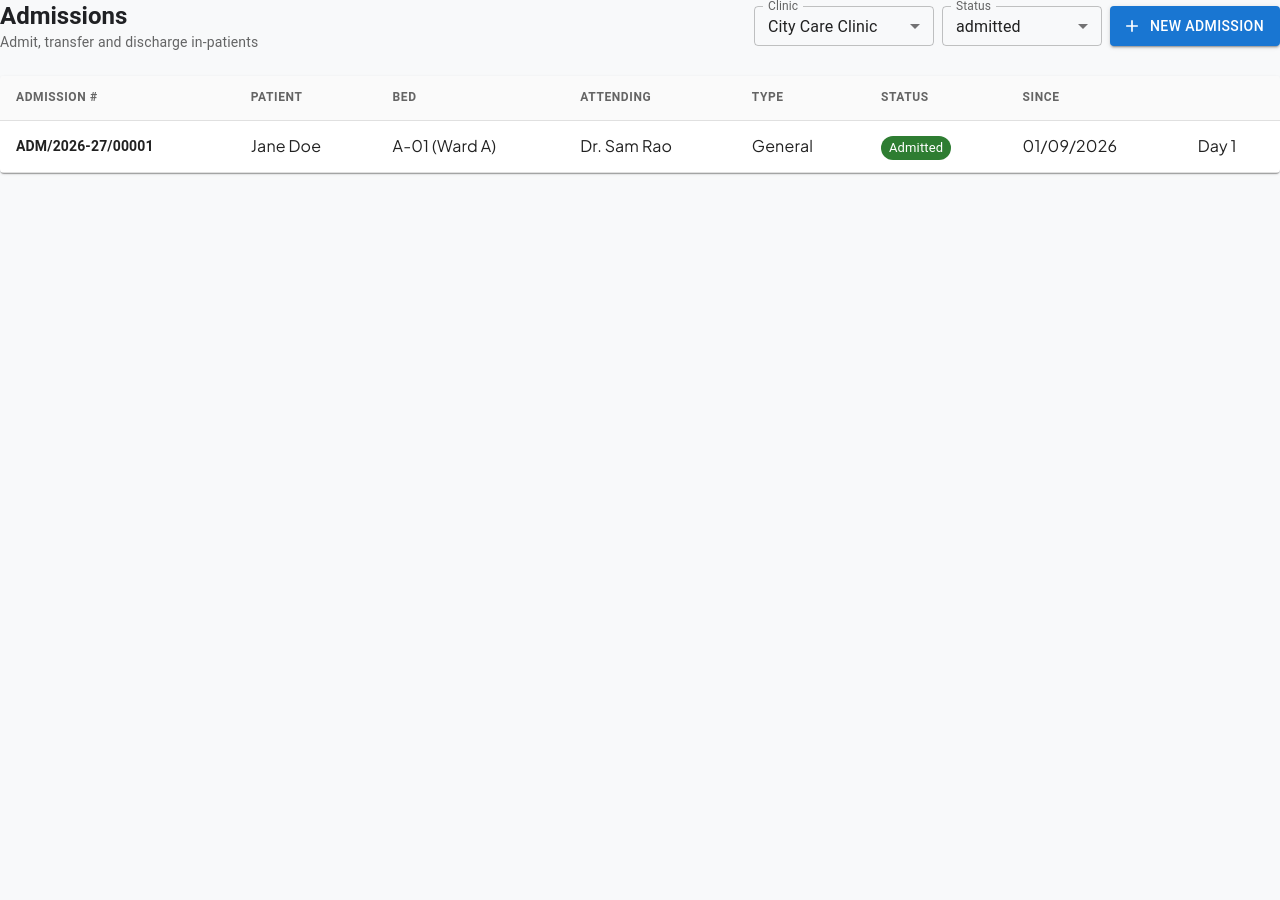
Scenario: ipd/Admissions › submits a discharge and refreshes the list
The width and height of the screenshot is (1280, 900).
Click the text "ADM/2026-27/00001".
click(85, 146)  # box 16,138 -> 154,154
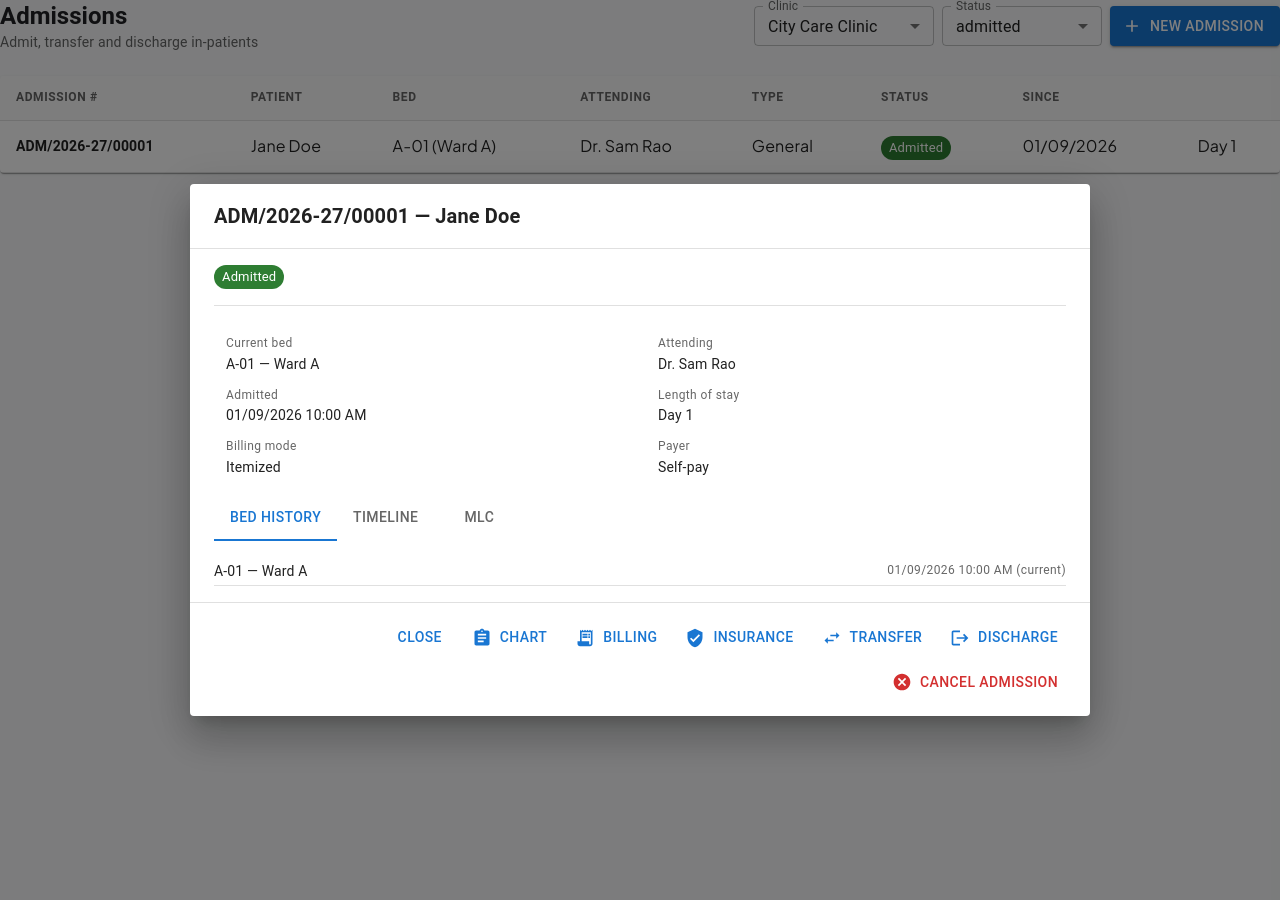
Click the button "Discharge".
click(1006, 638)  # box 946,619 -> 1066,656
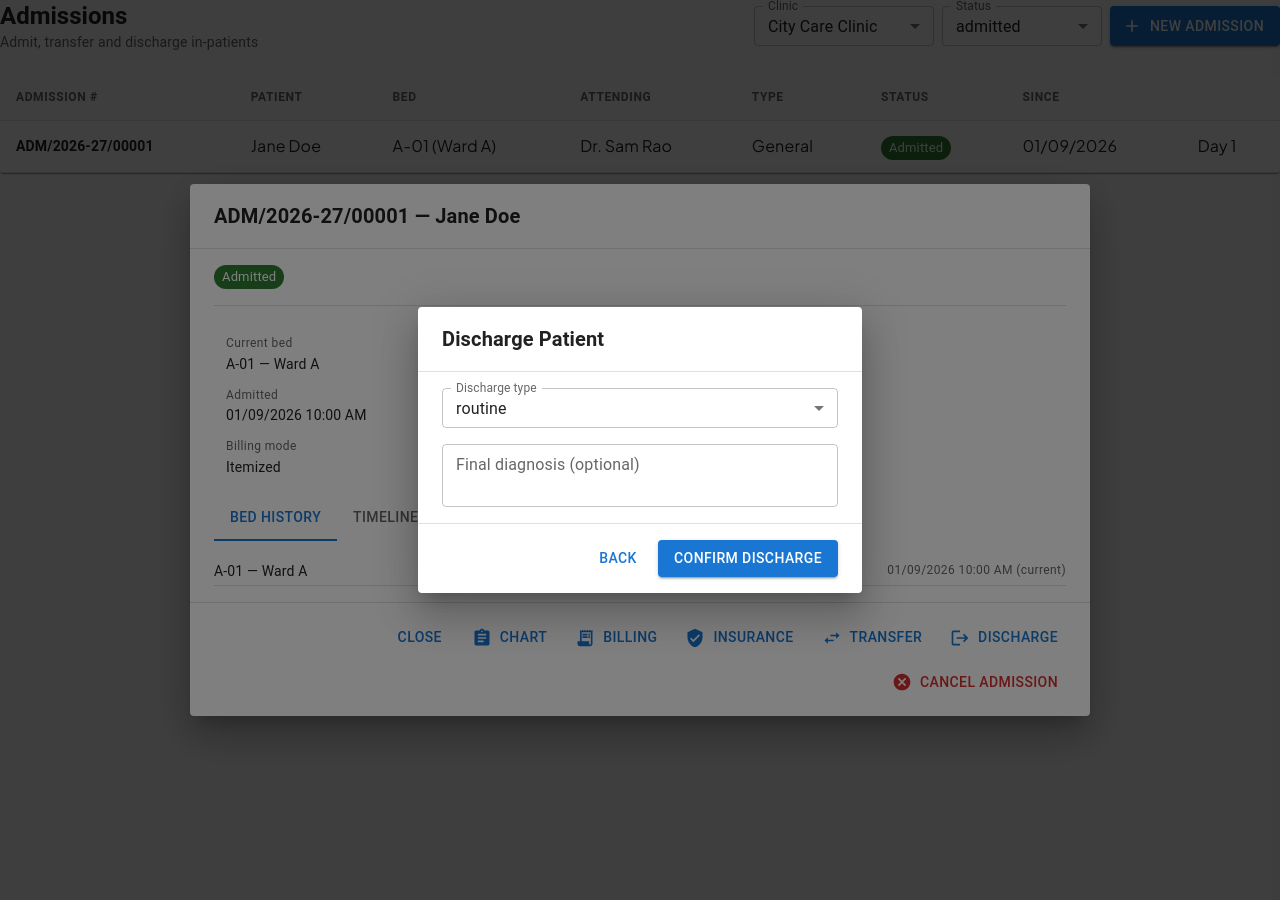
Click the button "Confirm Discharge".
click(748, 559)  # box 658,540 -> 838,577
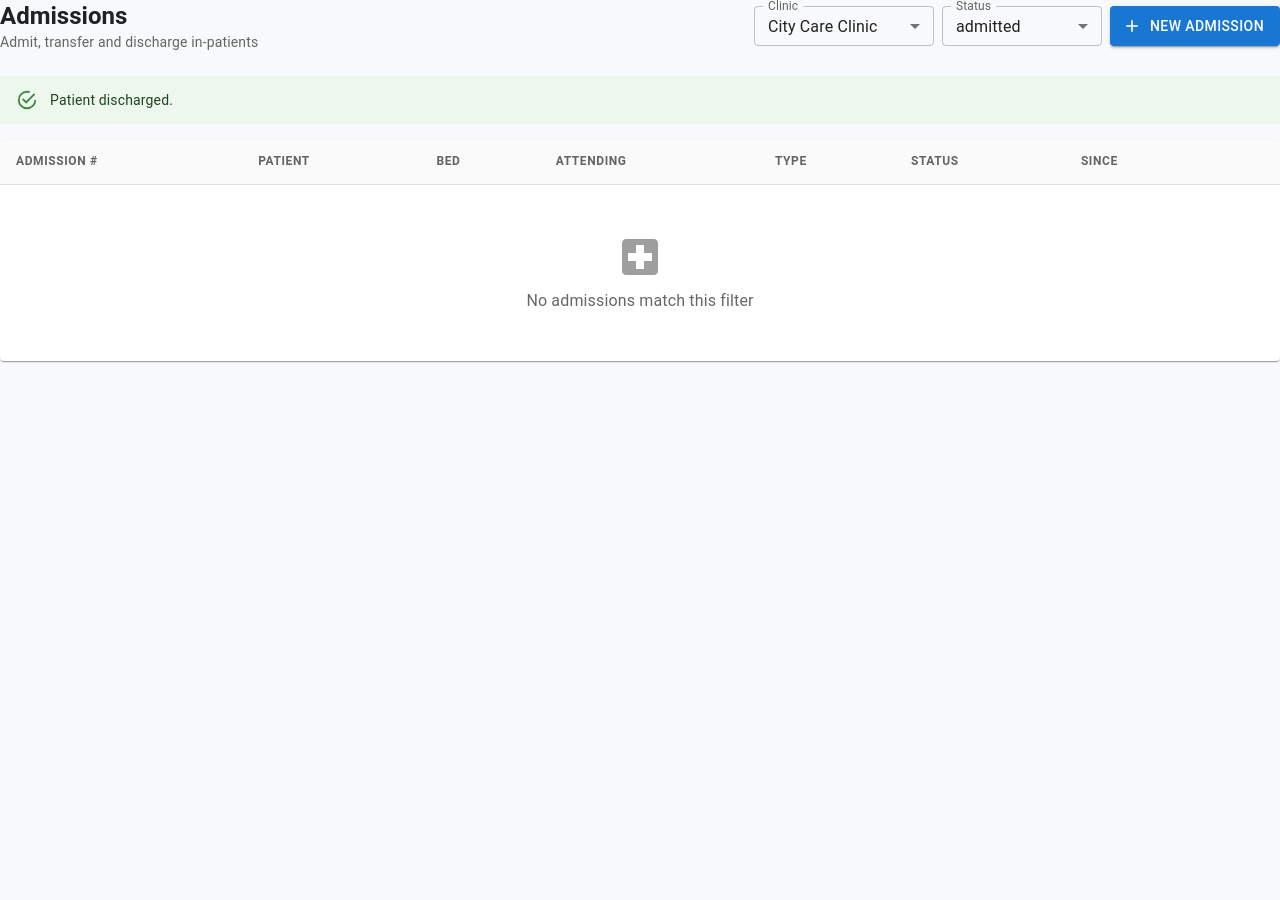
Now the text "Patient discharged." is shown, box 50,92 -> 173,108
